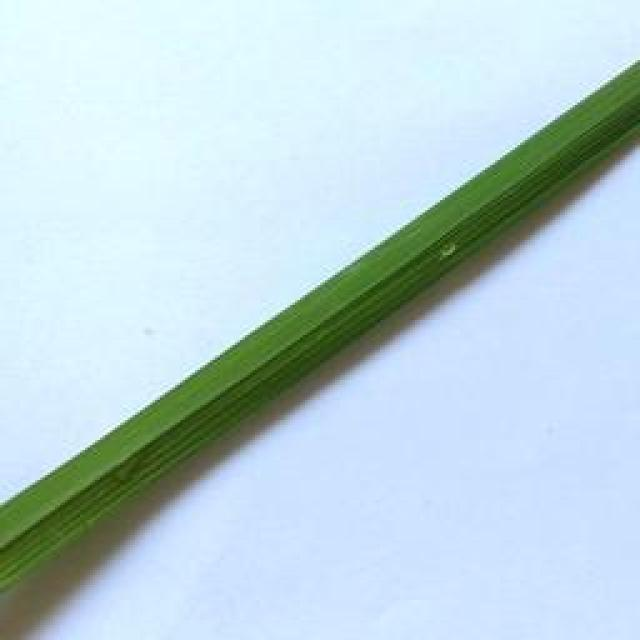Healthy-Plant: (0, 55, 640, 586)
